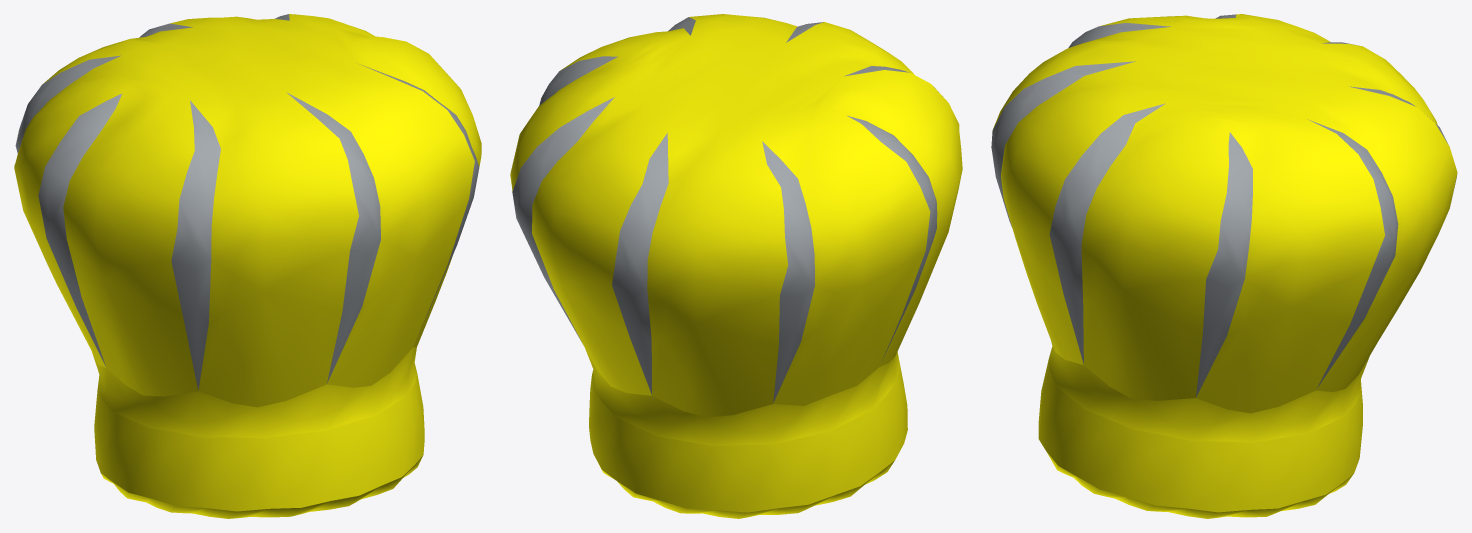
The model's file is ChefHat.fbx.
3 views of the same model, side by side, from view 1: azimuth 30°, elevation 25°; view 2: azimuth 150°, elevation 25°; view 3: azimuth 270°, elevation 25° (orthographic). The views are drawn at different scales.
Visible parts, largest first — view 1: ChefHat; view 2: ChefHat; view 3: ChefHat.
Boxes of the visible parts, x1,y1,x2,y2 form: ChefHat: (14, 14, 481, 518); ChefHat: (510, 14, 962, 518); ChefHat: (991, 14, 1457, 518).
Bounding box in the file's own units: 548 × 517 × 547.
